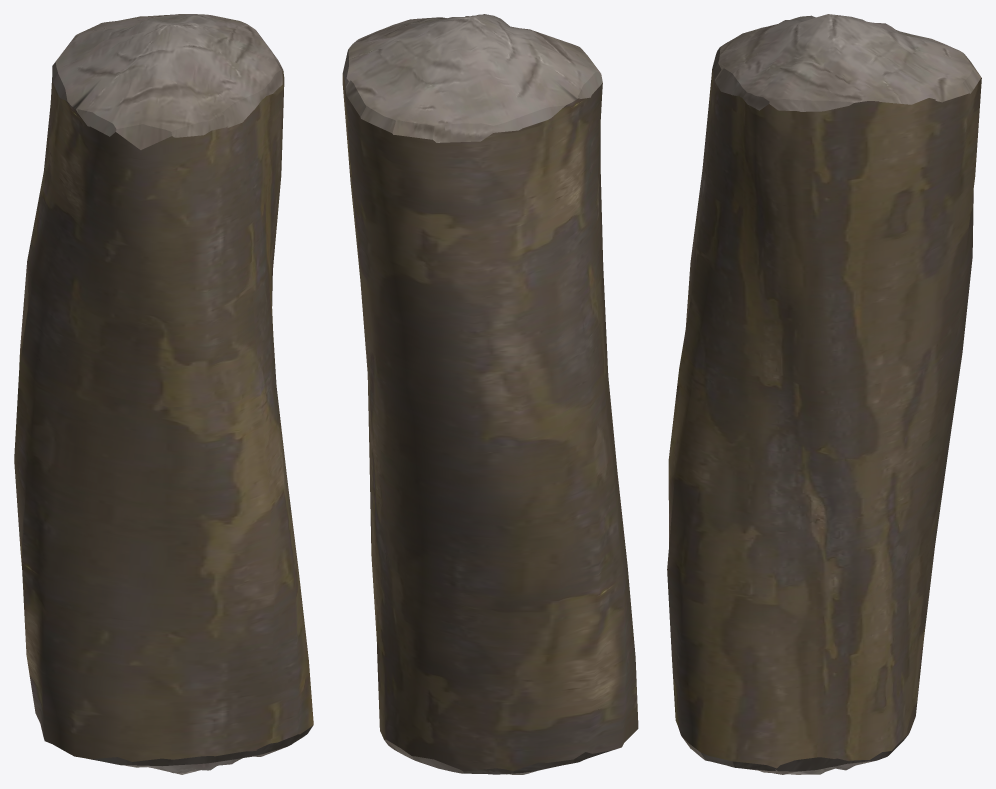
3 views of the same model, side by side, from view 1: azimuth 30°, elevation 25°; view 2: azimuth 150°, elevation 25°; view 3: azimuth 270°, elevation 25° (orthographic). The views are drawn at different scales.
Parts seen in each view (by area): view 1: SM_Yew_02_quarter_03_LOD0; view 2: SM_Yew_02_quarter_03_LOD0; view 3: SM_Yew_02_quarter_03_LOD0.
Part boxes in pixels (x1,y1,x2,y2): SM_Yew_02_quarter_03_LOD0: [14, 14, 313, 774]; SM_Yew_02_quarter_03_LOD0: [342, 14, 638, 774]; SM_Yew_02_quarter_03_LOD0: [667, 14, 981, 774].
Size of the model in its own units: 0.8347 by 2.48 by 0.9309.
1 material, 1 textured.
